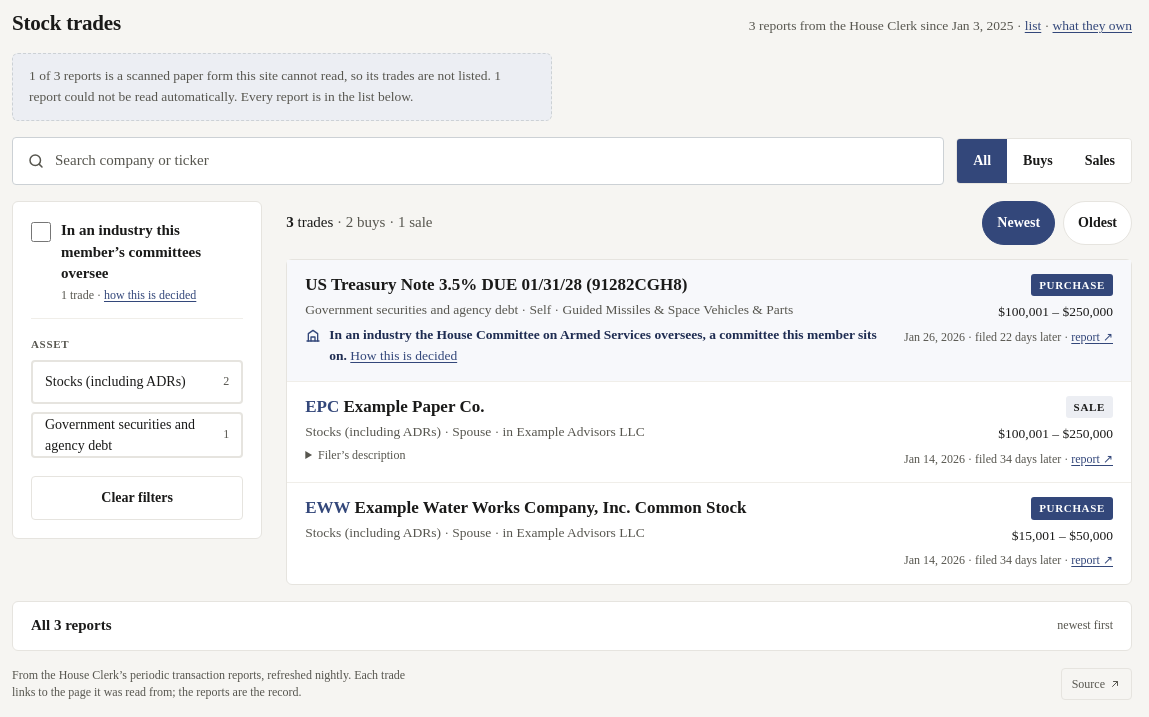
Test case: stock trades: committee industries (ADR 0032) › counts the overlapping trades in the filter, and filters to them
Expected: the text "1 trade · how this is decided" is shown, [61,288,196,302]
Click the checkbox labelled "In an industry this member’s committees oversee" at [41, 232], box [31,222,51,242]
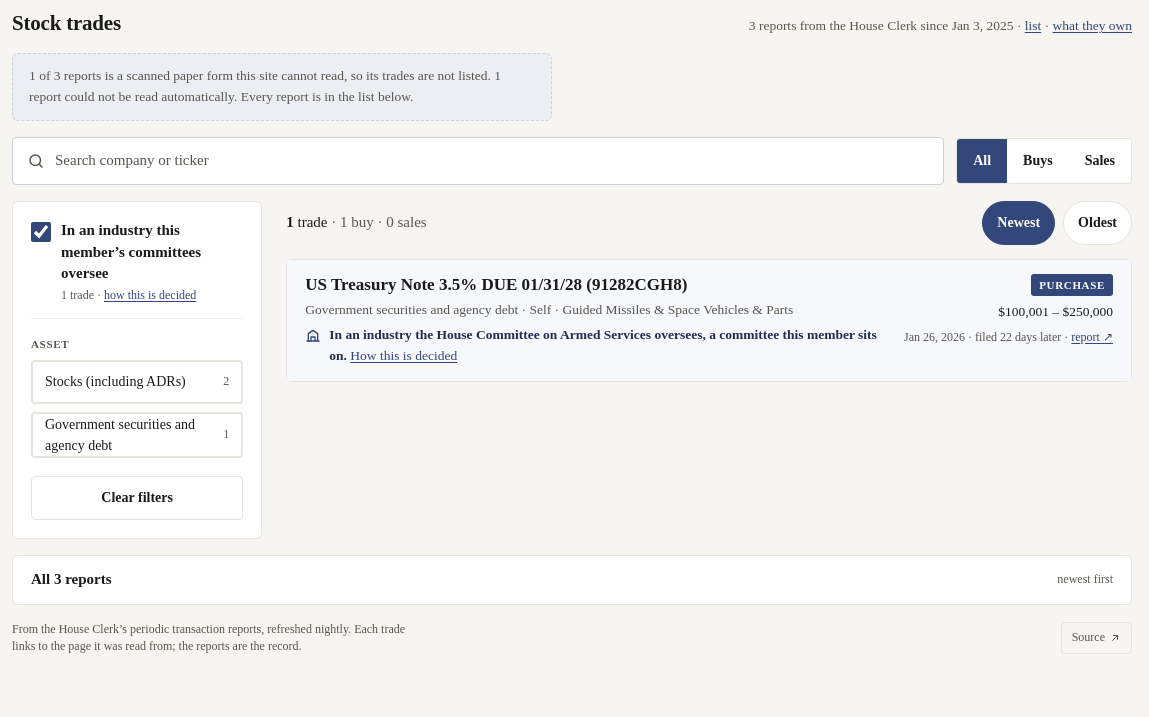
Expected: the list item shows "Armed Services", [437,327,651,342]
Result: the number of list items is 1 at [287,260,1131,381]
